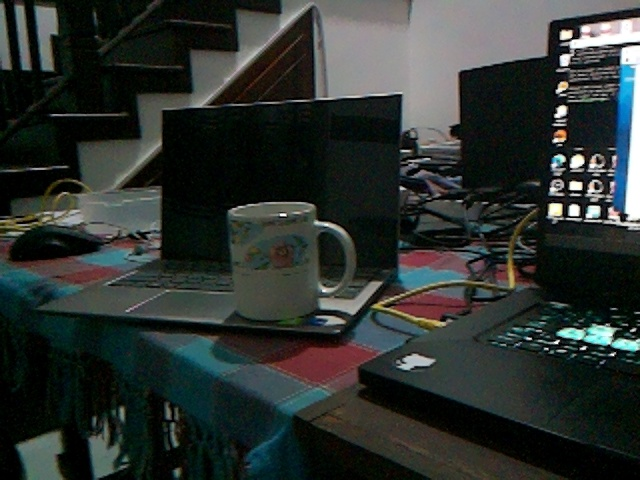mug: (223, 198, 358, 322)
